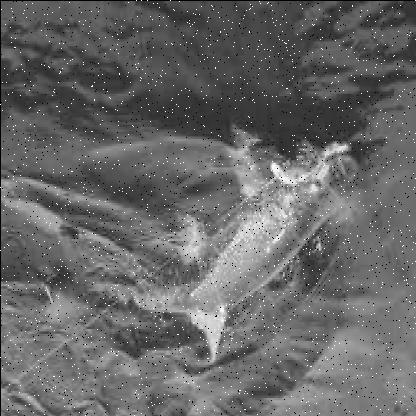fish: (53, 127, 361, 336)
